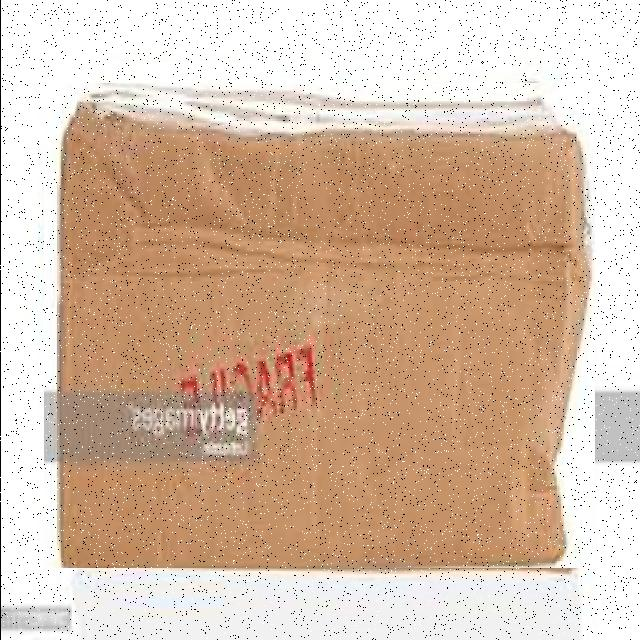defect: (43, 83, 594, 568)
